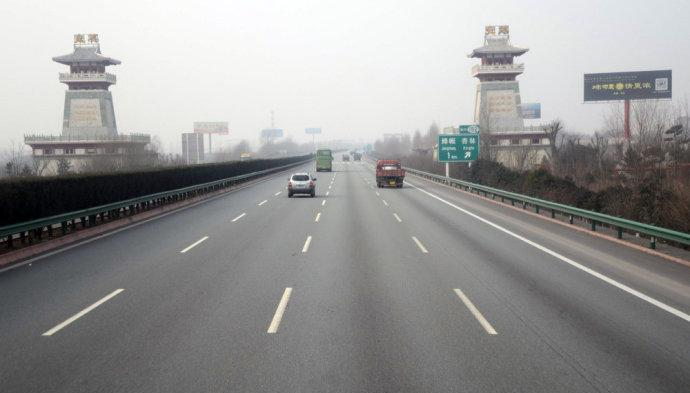bus: (375, 158, 406, 188), (315, 149, 334, 172), (353, 153, 362, 160), (342, 154, 349, 161)
car: (287, 172, 317, 198)
